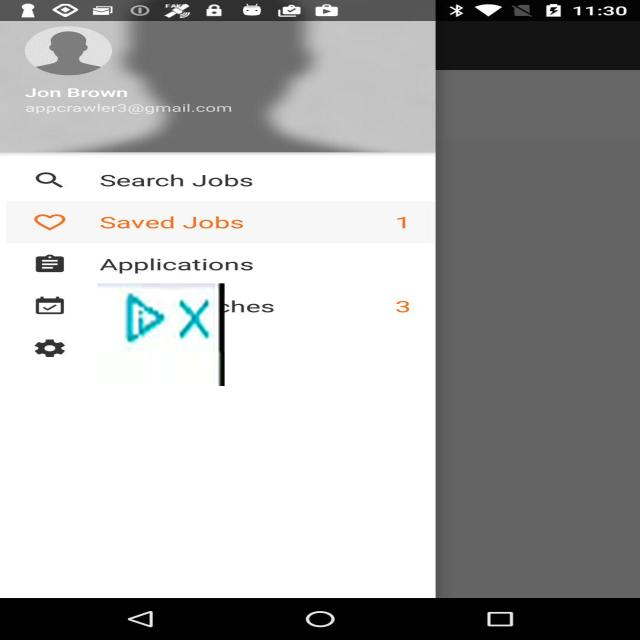sneaking: (97, 283, 225, 386)
